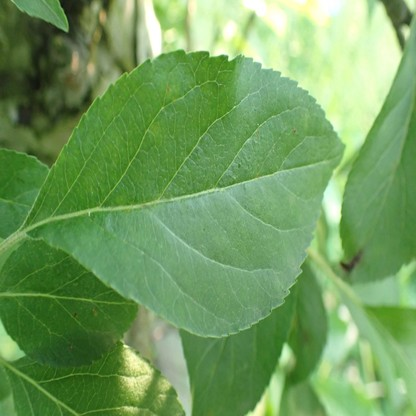scab: (289, 195, 293, 205)
